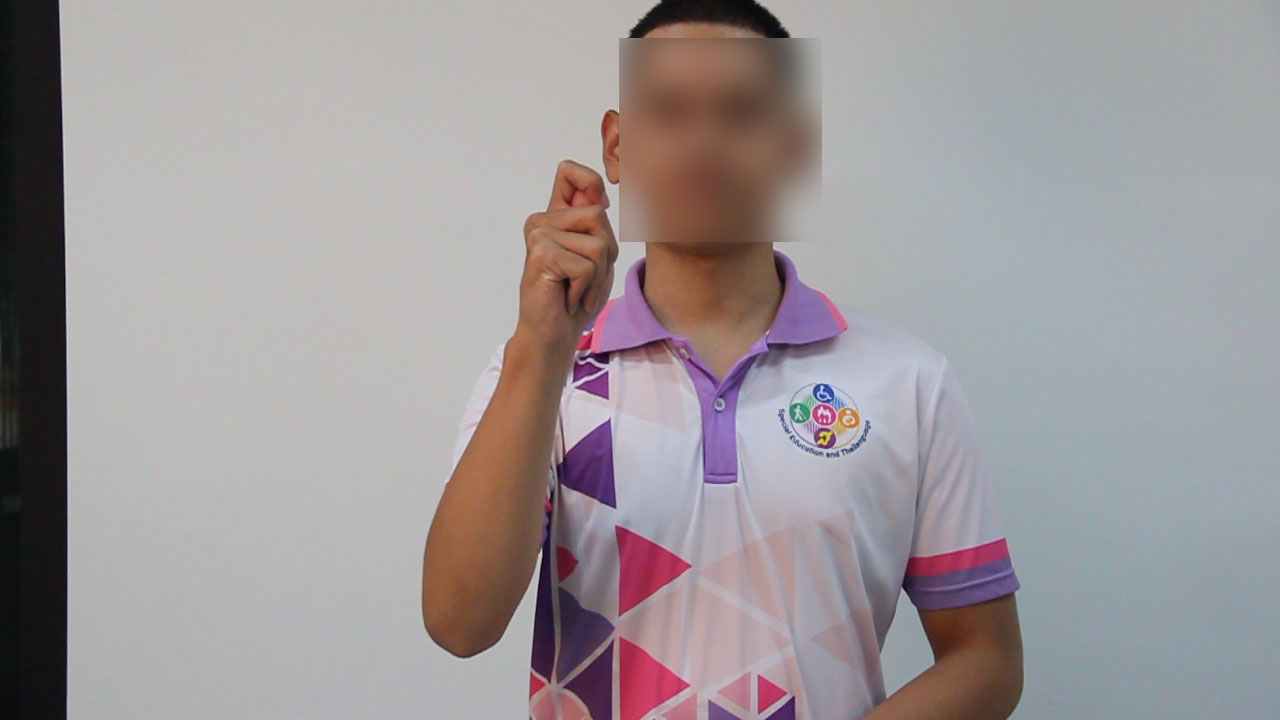or: (511, 152, 625, 354)
